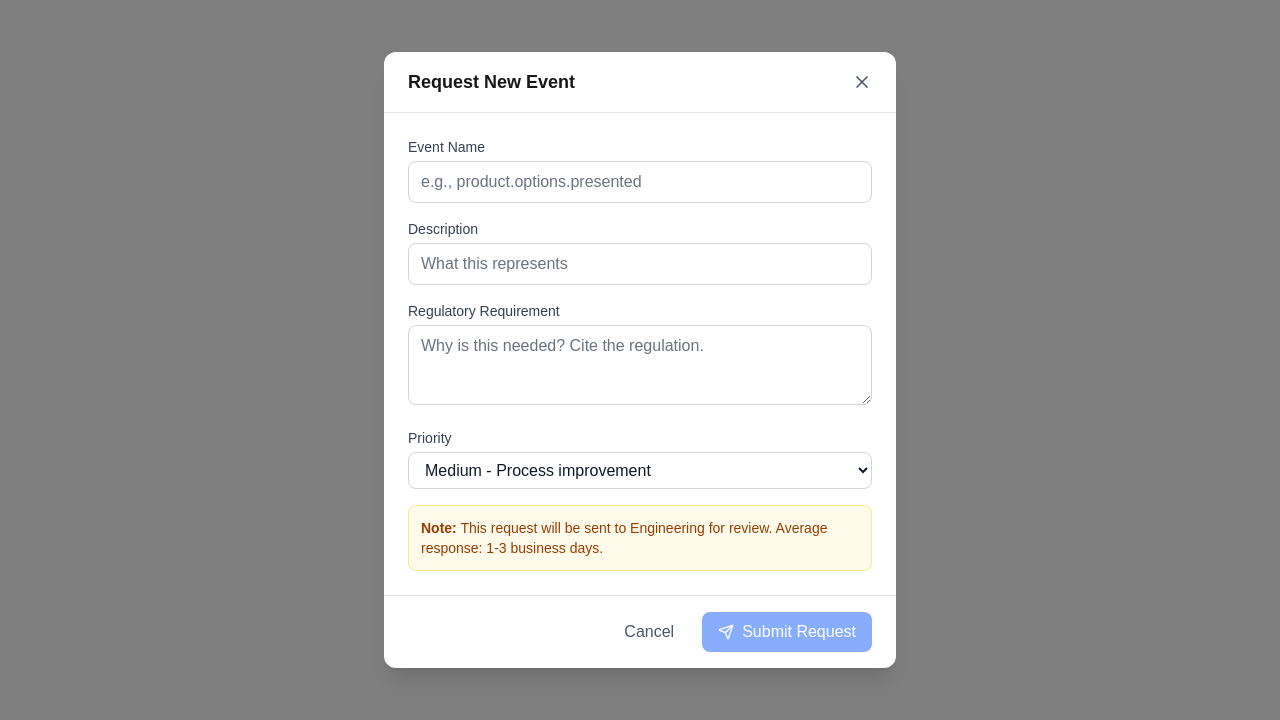
RequestModal › submit button is enabled when name and requirement are filled
In the field with placeholder "e.g., product.options.presented": (640, 182) [408, 161, 872, 203], type "payment.processed"
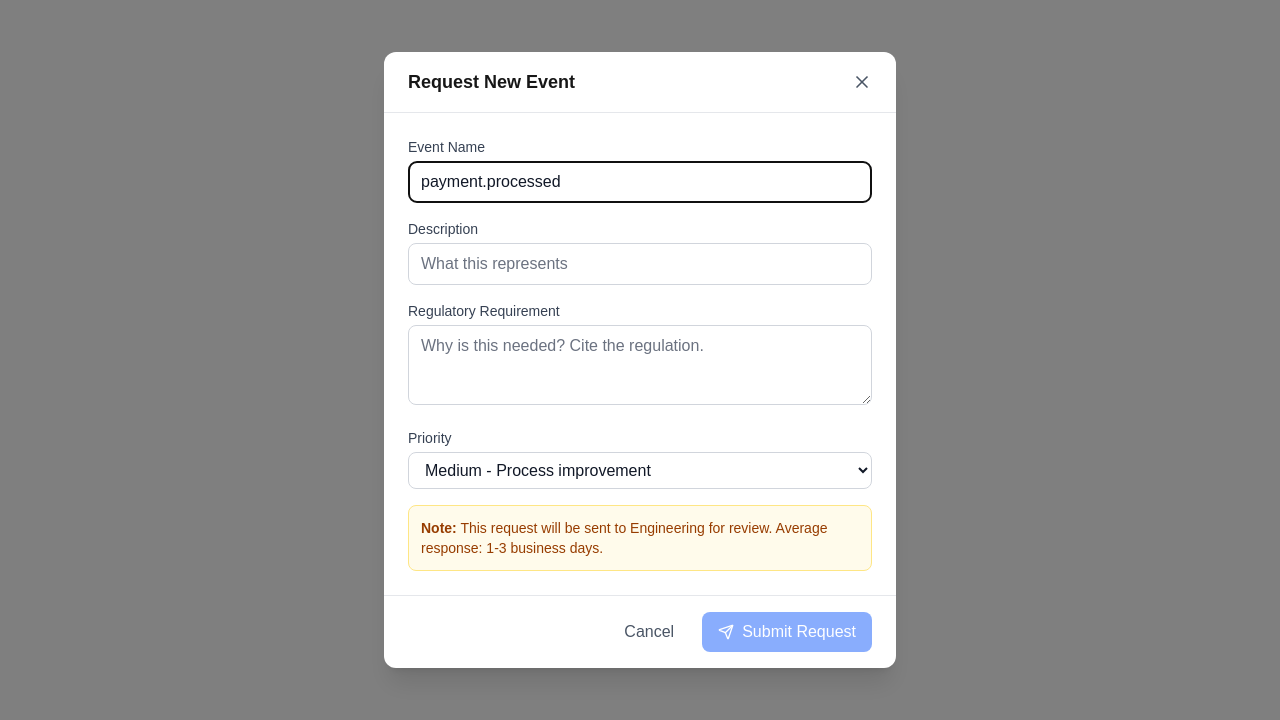
In the text box with placeholder "Why is this needed? Cite the regulation.": (640, 365) [408, 325, 872, 405], type "Required by BSA"
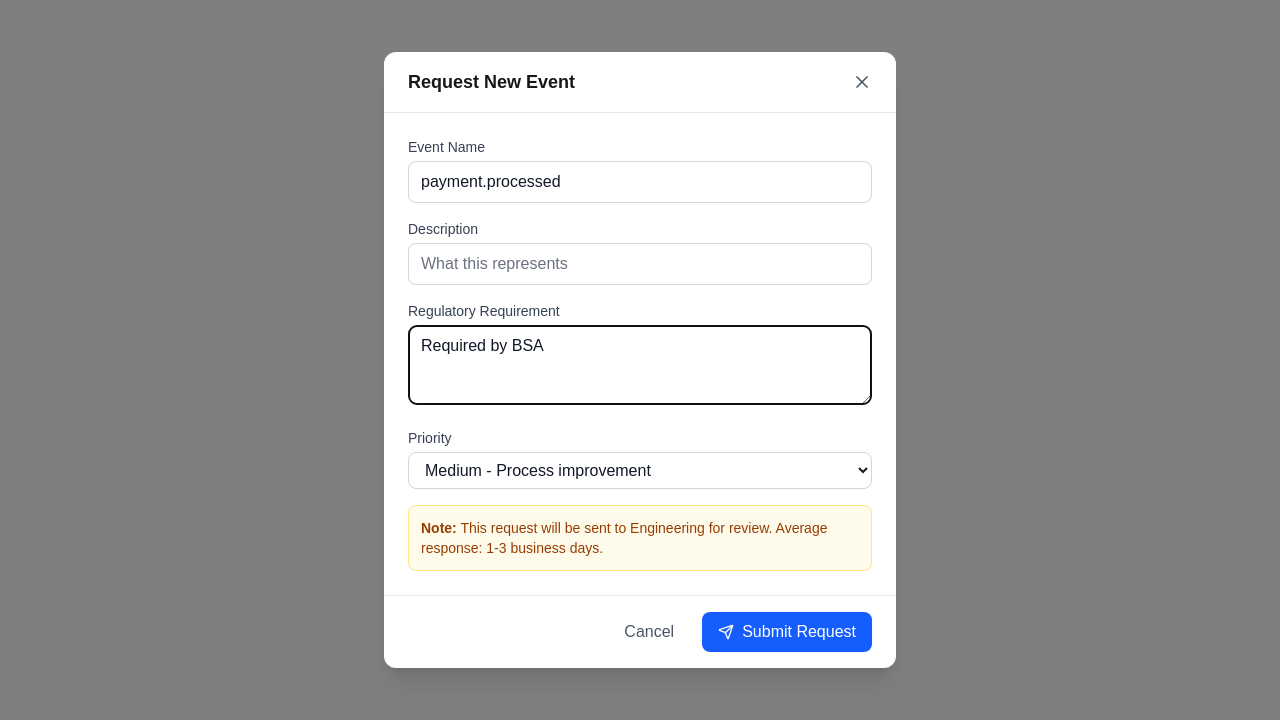
Check: the button "Submit Request" is enabled, box [702, 612, 872, 652]
